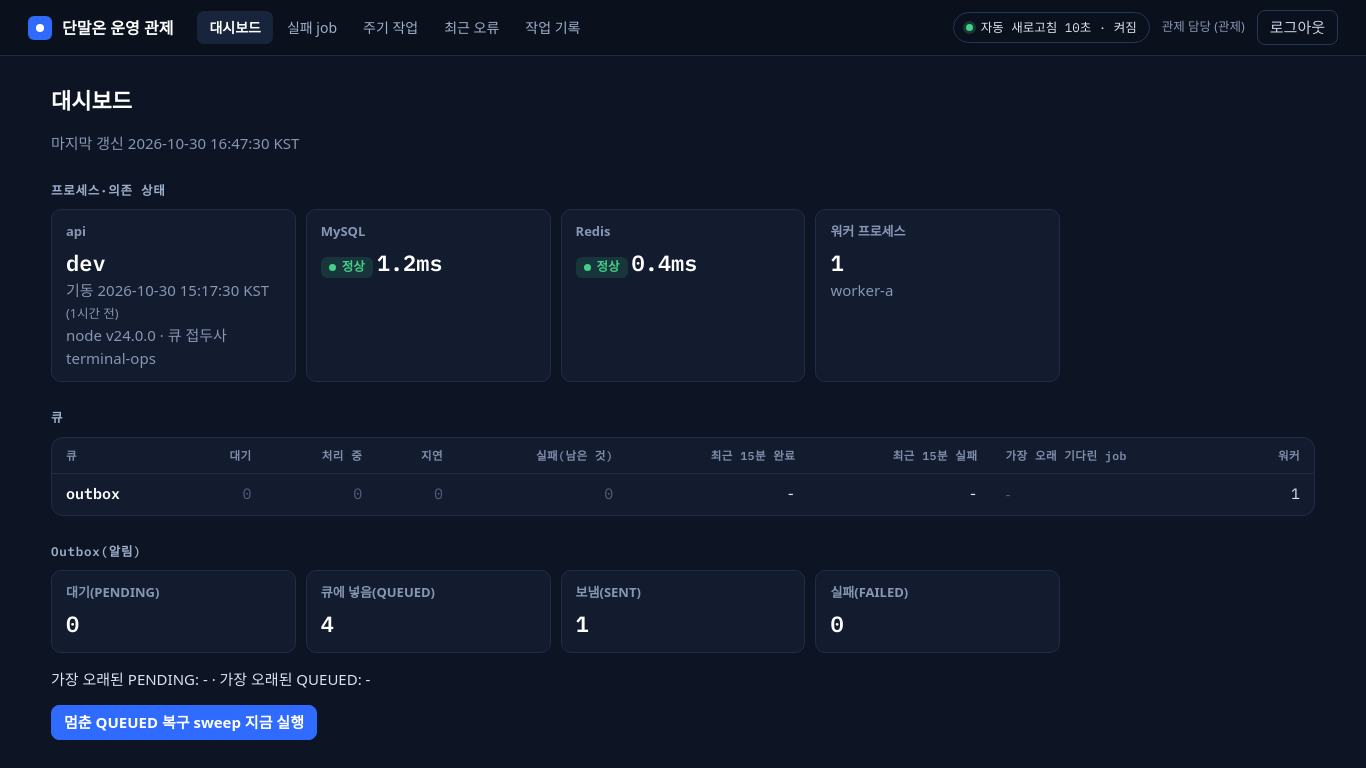
it: Outbox 복구 sweep (보강 6, decisions/0042·0073) › 관제: 확인 뒤 POST, 결과(본 수·다시 넣은 id·작업 기록)를 보이고 Outbox 요약을 다시 읽는다
The image size is (1366, 768).
Click the button "멈춘 QUEUED 복구 sweep 지금 실행" at (184, 723), box x1=51 y1=705 x2=317 y2=740
(page scrolled)
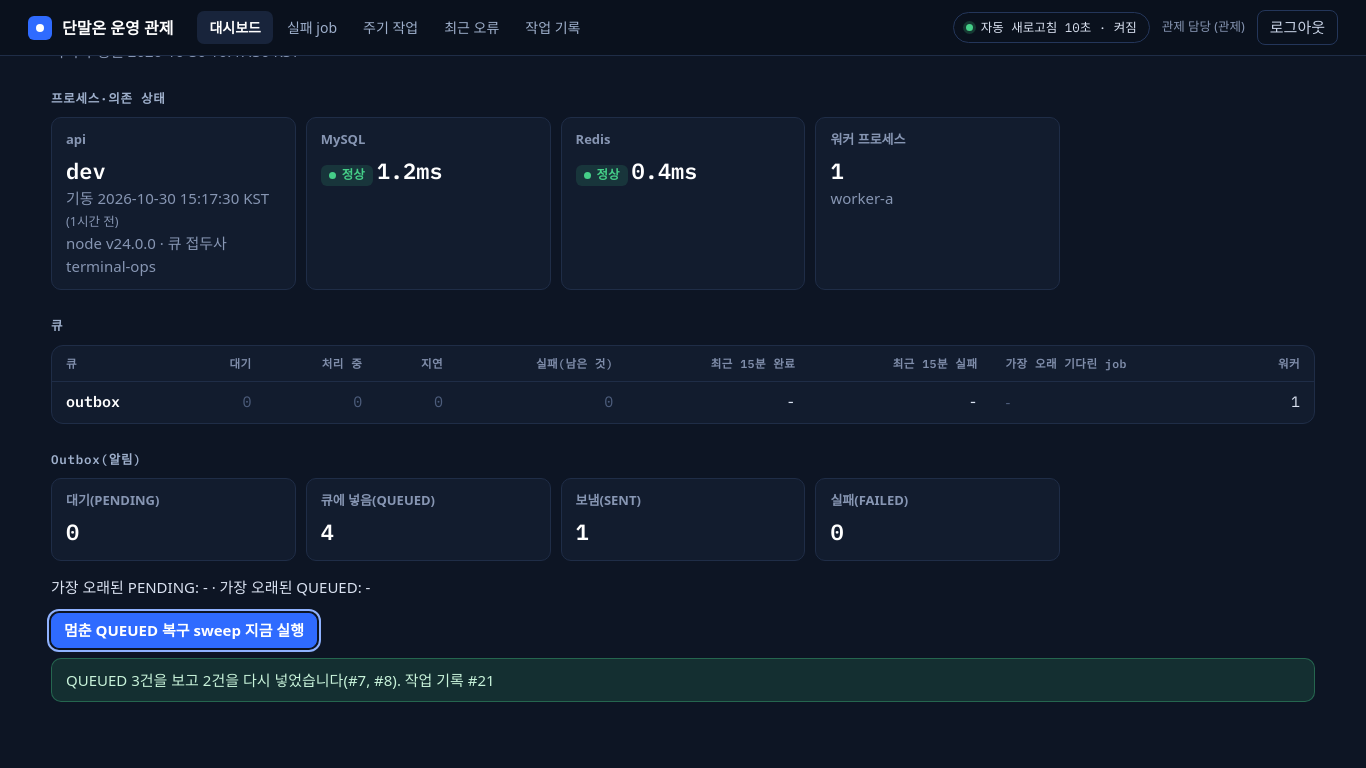
Expected: the text "QUEUED 3건을 보고 2건을 다시 넣었습니다(#7, #8). 작업 기록 #21" is shown, x1=51 y1=658 x2=1315 y2=702
